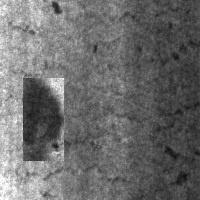crazing: (9, 63, 135, 183), (152, 41, 200, 200), (88, 5, 199, 55)
patches: (23, 78, 64, 161)
